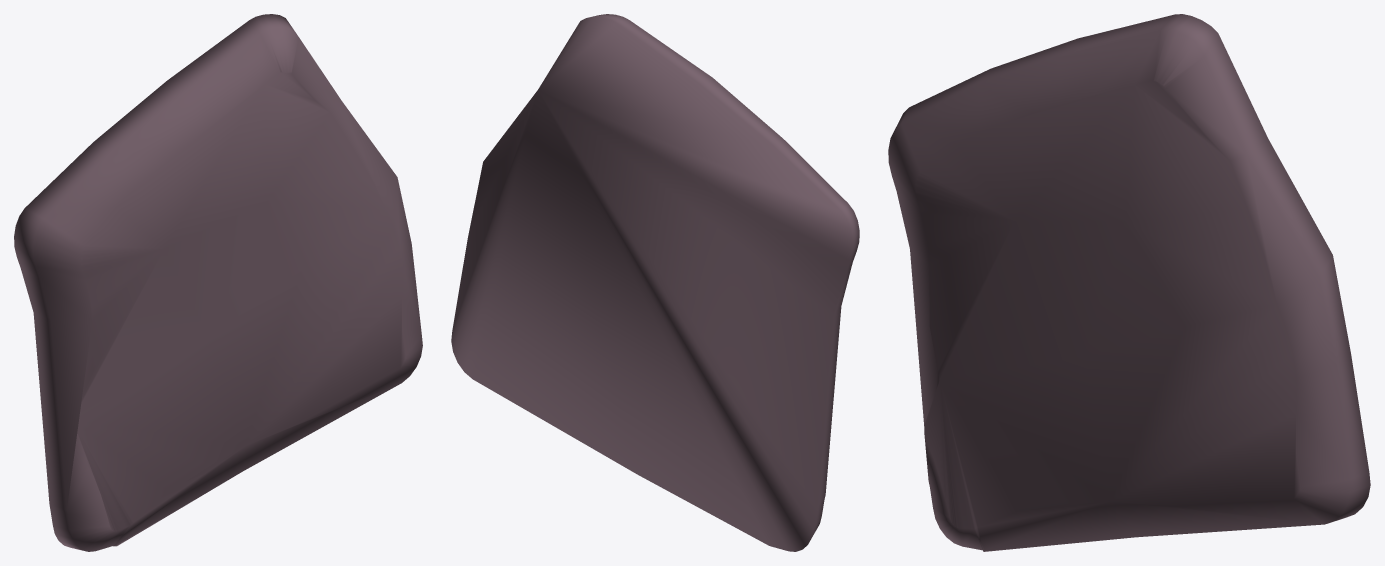
File: SM_Rock_004_2.fbx
3 renders of one model, left to right at view 1: azimuth 30°, elevation 25°; view 2: azimuth 150°, elevation 25°; view 3: azimuth 330°, elevation 25°, orthographic. The views are drawn at different scales.
Parts seen in each view (by area): view 1: SM_Rock_004_2; view 2: SM_Rock_004_2; view 3: SM_Rock_004_2.
Part boxes in pixels (left/top/right/bottom): SM_Rock_004_2: left=14, top=14, right=422, bottom=551; SM_Rock_004_2: left=451, top=14, right=859, bottom=551; SM_Rock_004_2: left=888, top=14, right=1370, bottom=551.
Size of the model in its own units: 115 by 882 by 1026.
